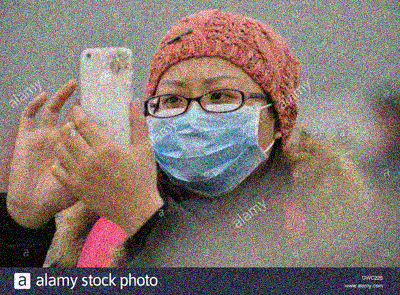with_mask: (143, 72, 271, 199)
